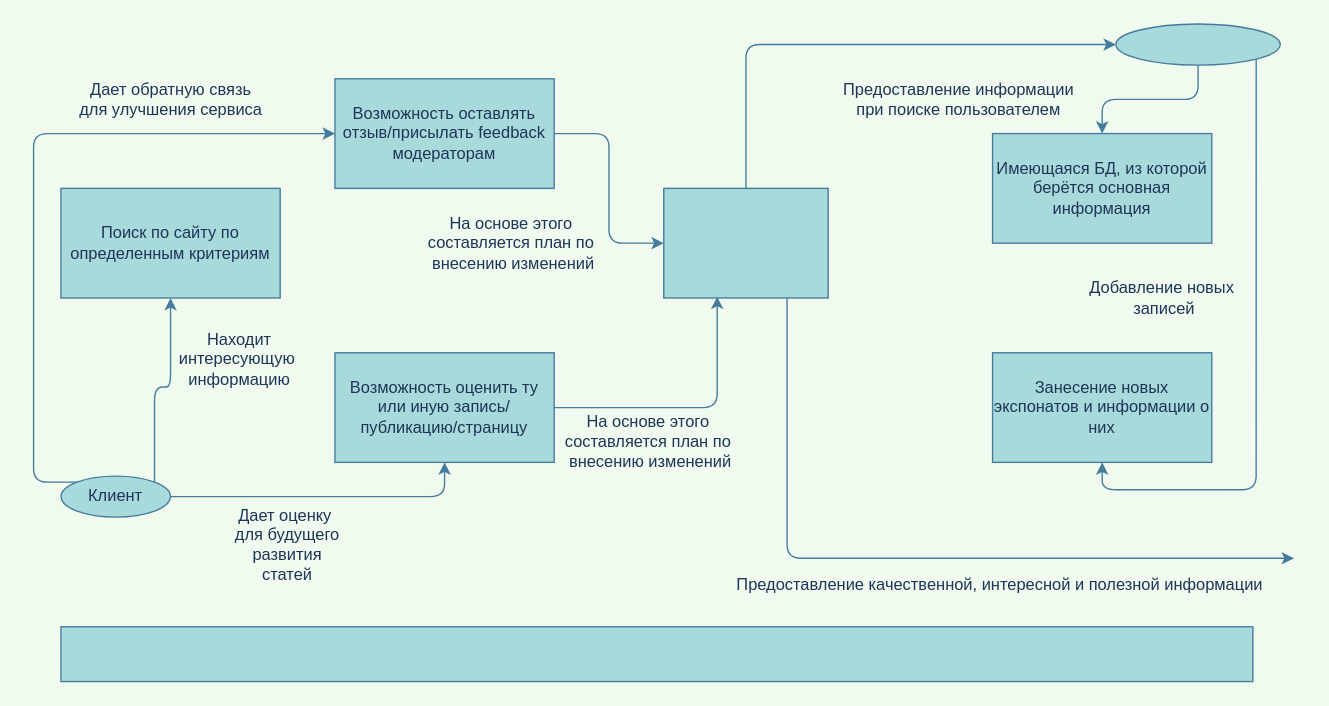
Some shapes in this 1329 by 706 pixel diagram are drawn without their labels. The shapes that lost their labels are listed below. From the top down, each one's centre as x and y in pixels, then its label:
[1197,44]: Управляющий сайтом
[745,242]: Вносить правки
[656,653]: Поиск и получение информации об экспонатах/картинах.
